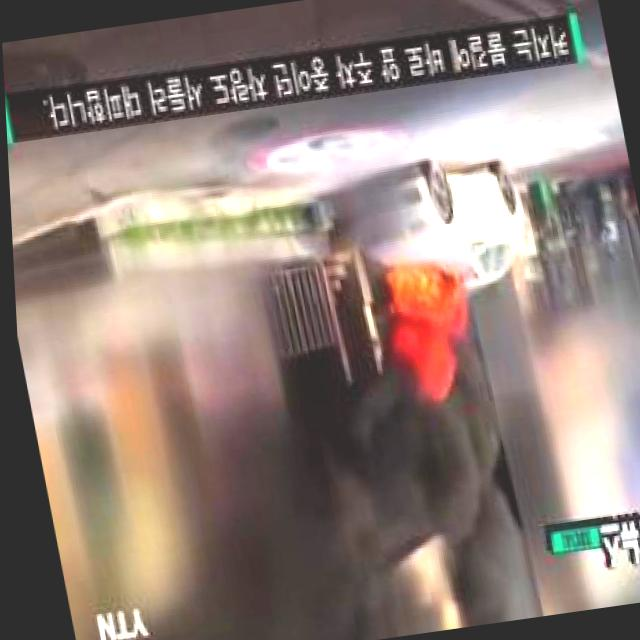helmet: (369, 250, 490, 420)
no_helmet: (311, 373, 535, 640)
